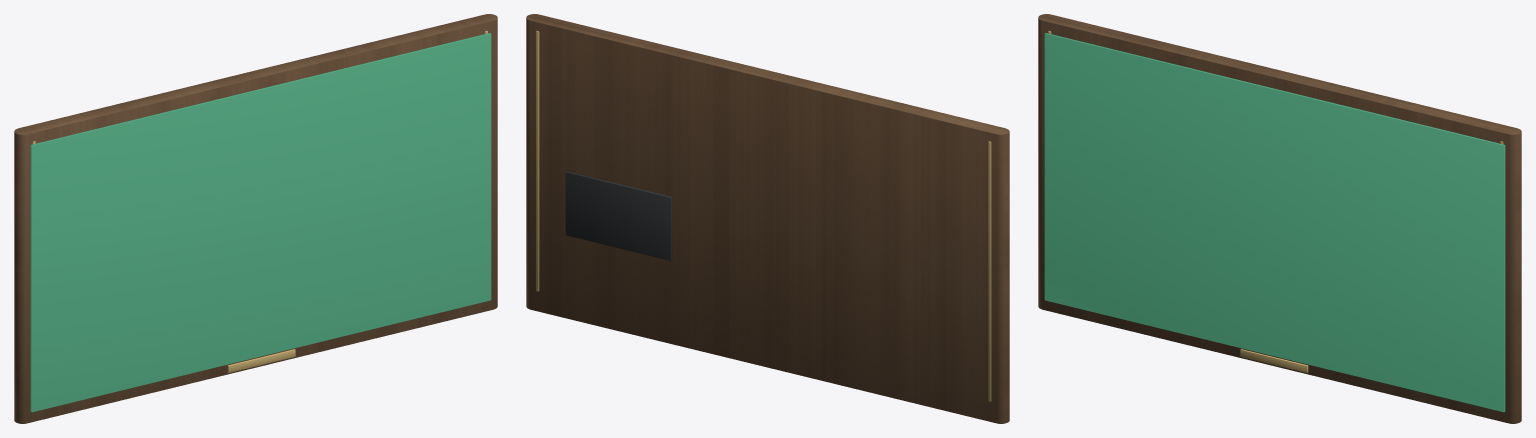
File: display_tv_country_club.glb
The picture shows the model from 3 angles, left to right: view 1: azimuth 30°, elevation 25°; view 2: azimuth 150°, elevation 25°; view 3: azimuth 330°, elevation 25°; orthographic projection.
Visible parts, largest first — view 1: DisplayTV_Screen, DisplayTV_Back, DisplayTV_CommercialBadge; view 2: DisplayTV_Back, DisplayTV_InputPanel, DisplayTV_BrassFrameSide_L, DisplayTV_BrassFrameSide_R; view 3: DisplayTV_Screen, DisplayTV_Back, DisplayTV_CommercialBadge.
Boxes of the visible parts, x1=… form: DisplayTV_Screen: x1=30, y1=33, x2=491, y2=412; DisplayTV_Back: x1=14, y1=14, x2=497, y2=423; DisplayTV_CommercialBadge: x1=227, y1=349, x2=295, y2=372; DisplayTV_Back: x1=526, y1=14, x2=1009, y2=423; DisplayTV_InputPanel: x1=565, y1=171, x2=672, y2=260; DisplayTV_BrassFrameSide_L: x1=988, y1=141, x2=991, y2=401; DisplayTV_BrassFrameSide_R: x1=536, y1=31, x2=539, y2=291; DisplayTV_Screen: x1=1044, y1=33, x2=1505, y2=412; DisplayTV_Back: x1=1038, y1=14, x2=1521, y2=423; DisplayTV_CommercialBadge: x1=1240, y1=349, x2=1308, y2=372.
Size of what is drawn, in the model's own units: 1.88 by 1.08 by 0.0786.
4 materials, 1 textured.
